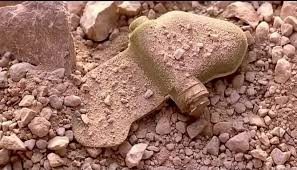butterfly: (67, 10, 251, 152)
